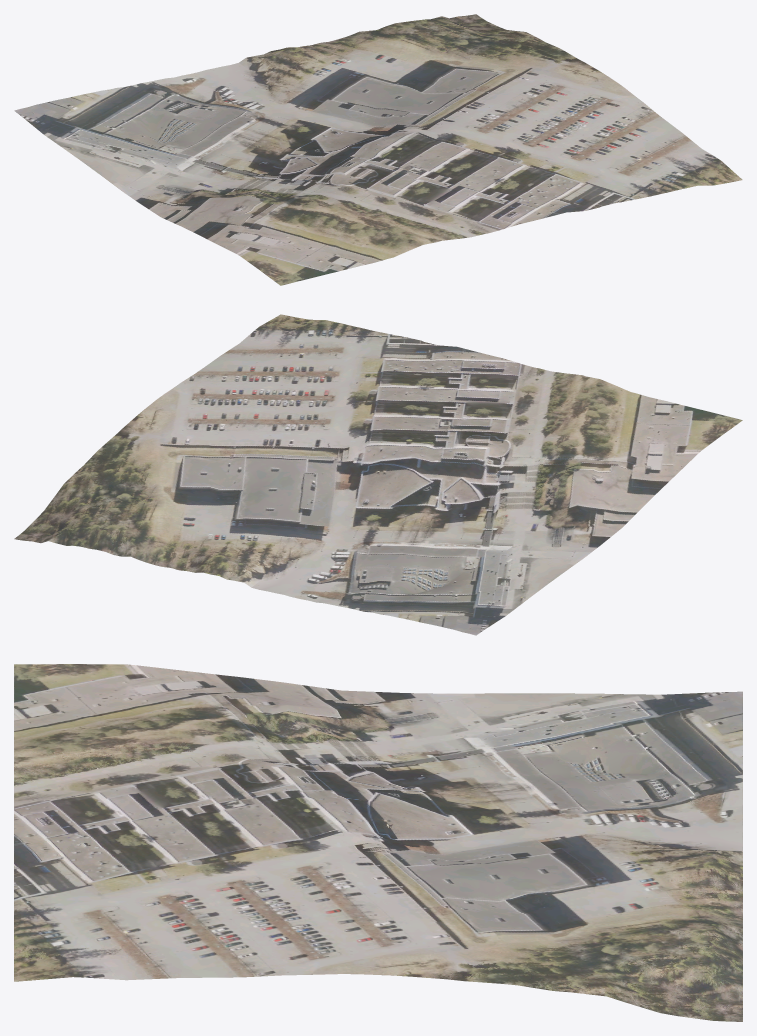
The model's file is CM_Terrain_24492506_6815493.fbx.
3 renders of one model, top to bottom at view 1: azimuth 30°, elevation 25°; view 2: azimuth 150°, elevation 25°; view 3: azimuth 270°, elevation 25°, orthographic. The views are drawn at different scales.
Visible parts, largest first — view 1: CM_Terrain_24492506_6815493_LOD0; view 2: CM_Terrain_24492506_6815493_LOD0; view 3: CM_Terrain_24492506_6815493_LOD0.
Part boxes in pixels (x1,y1,x2,y2): CM_Terrain_24492506_6815493_LOD0: (14,14,742,285); CM_Terrain_24492506_6815493_LOD0: (14,314,742,635); CM_Terrain_24492506_6815493_LOD0: (14,664,742,1021).
Size of what is drawn, in the model's own units: 205 by 18.63 by 205.
